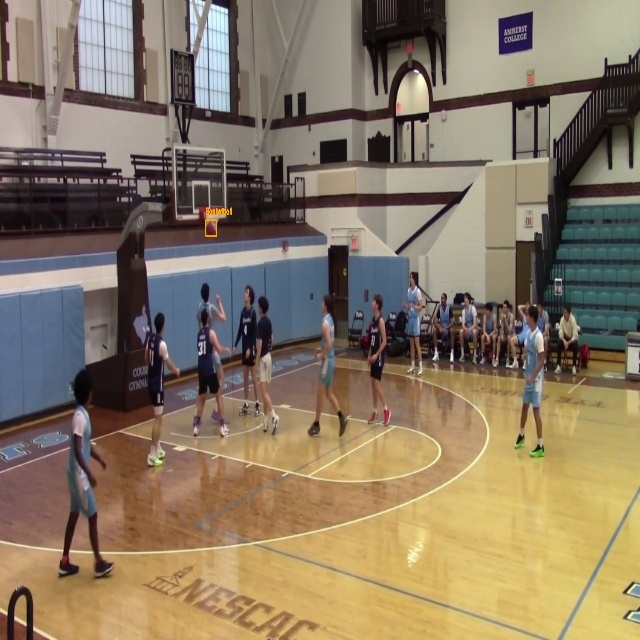Basketball: (206, 220, 216, 236)
